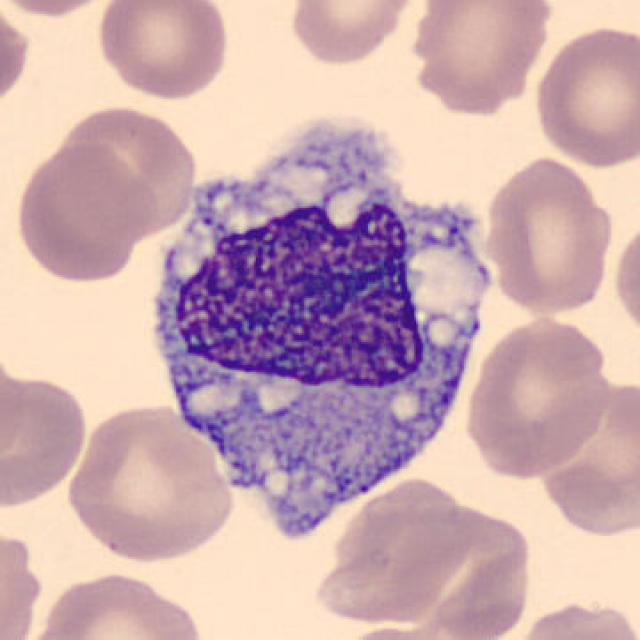Monocyte: (123, 99, 505, 562)
RBC: (62, 400, 238, 564), (302, 474, 484, 628), (461, 312, 618, 483), (480, 154, 619, 318), (47, 102, 201, 243), (13, 139, 151, 286), (405, 0, 554, 116), (530, 19, 638, 171), (544, 376, 640, 537), (92, 0, 232, 102), (23, 567, 209, 640), (0, 367, 91, 511), (283, 0, 423, 69), (510, 596, 638, 640), (0, 525, 48, 640), (610, 213, 640, 349), (0, 2, 34, 118), (0, 340, 28, 470), (321, 620, 467, 640), (0, 0, 126, 19)
